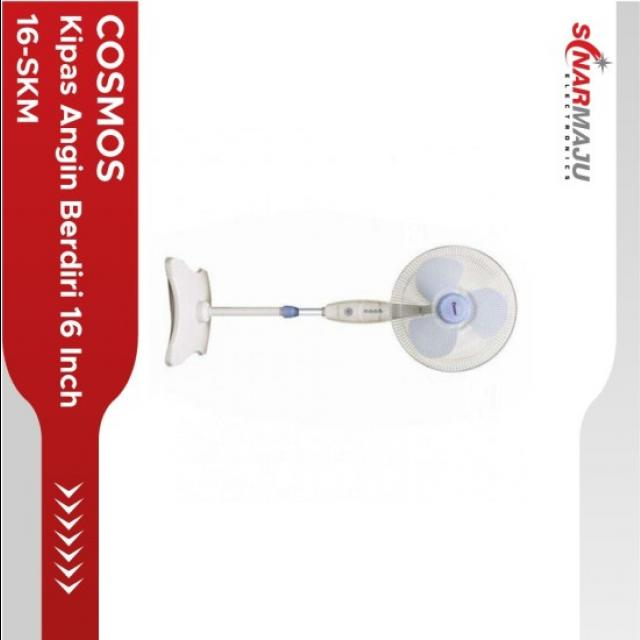fan: (160, 228, 524, 378)
